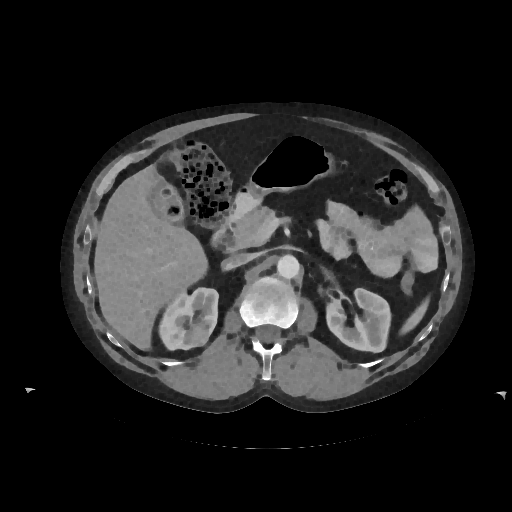Lesion: (181, 320, 212, 352)
